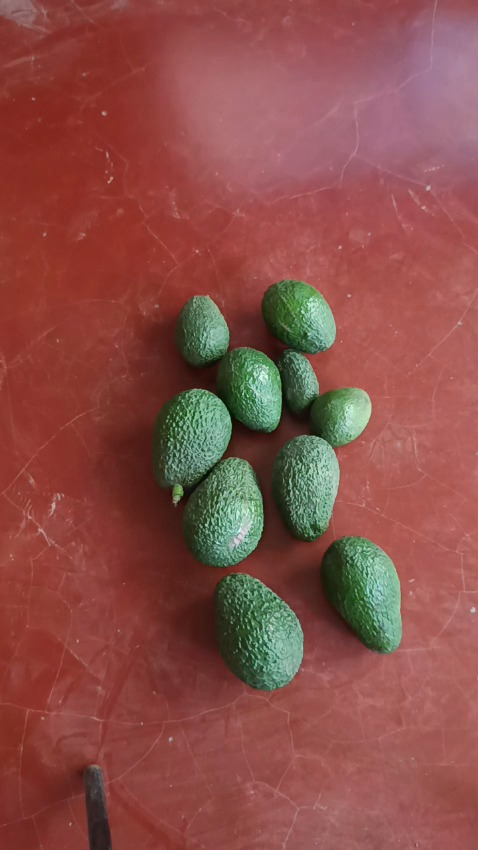Primera: (213, 573, 304, 687), (320, 536, 402, 650), (181, 457, 265, 565), (151, 387, 232, 494), (271, 434, 339, 540)
Segunda: (215, 346, 282, 433), (261, 279, 336, 353)
Tercera: (175, 295, 229, 367), (309, 386, 372, 447), (277, 349, 320, 415)
